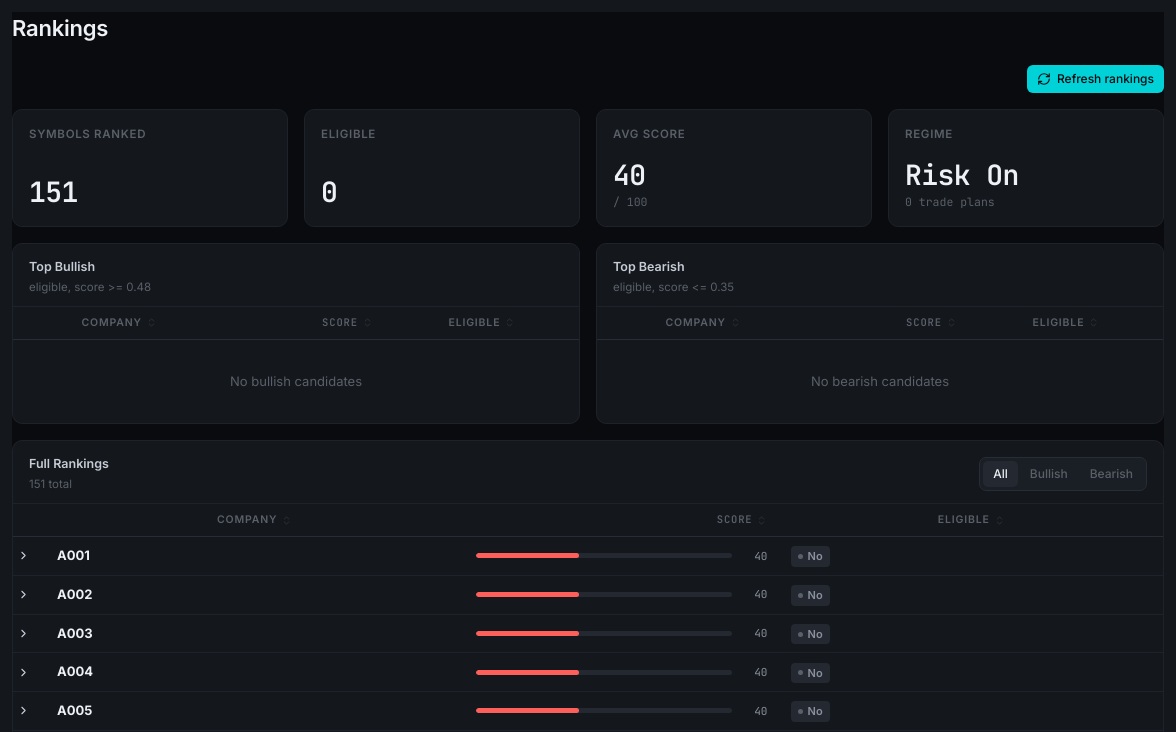
it: sorts the full rankings dataset before pagination
Expected: the text "A001" is shown, left=57, top=546, right=90, bottom=566
Expected: the text "ZZZ" is not shown
Click the column heading "Company" below "151 total". click: (255, 520)
box: left=45, top=504, right=464, bottom=537
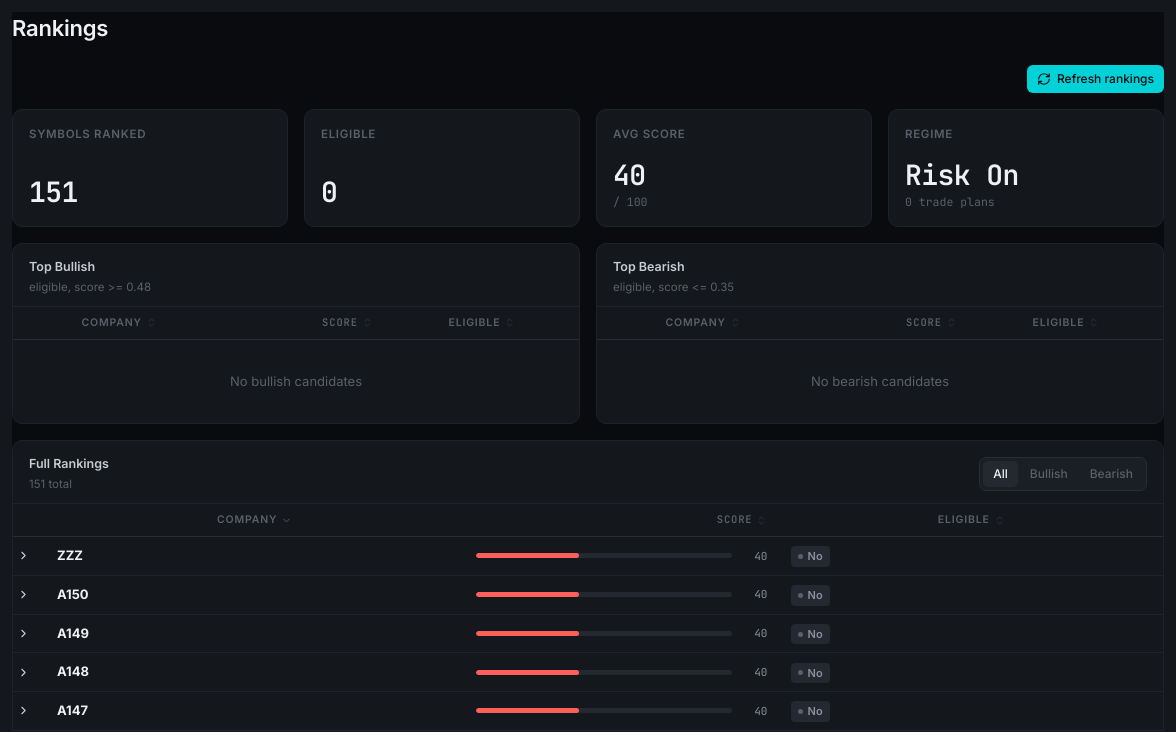
Result: the text "ZZZ" is shown at left=57, top=546, right=83, bottom=566
